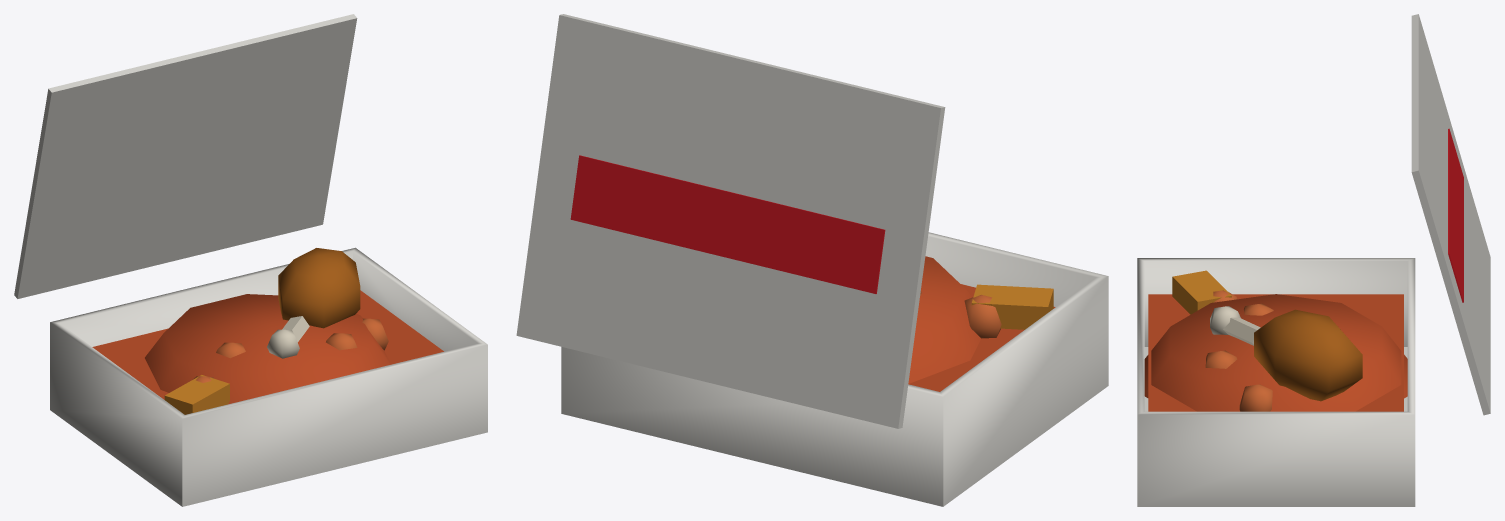
File: rice-pack.glb
The picture shows the model from 3 angles, left to right: view 1: azimuth 30°, elevation 25°; view 2: azimuth 150°, elevation 25°; view 3: azimuth 270°, elevation 25°; orthographic projection. The views are drawn at different scales.
Parts seen in each view (by area): view 1: BODY; view 2: BODY; view 3: BODY.
Boxes of the visible parts, x1,y1,x2,y2 form: BODY: [14, 14, 487, 506]; BODY: [516, 14, 1108, 506]; BODY: [1137, 14, 1490, 506].
Bounding box in the file's own units: 0.2 × 0.2004 × 0.1908.
